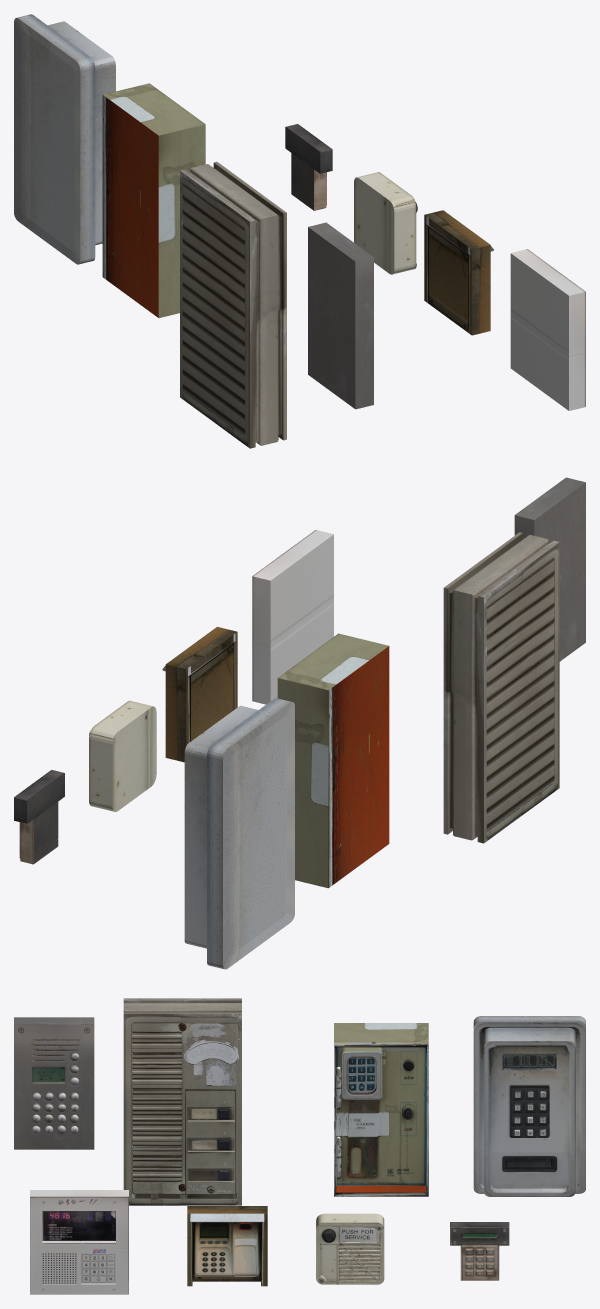
File: bellsfbx.fbx
3 renders of one model, top to bottom at view 1: azimuth 30°, elevation 25°; view 2: azimuth 150°, elevation 25°; view 3: azimuth 270°, elevation 25°, orthographic. The views are drawn at different scales.
Parts seen in each view (by area): view 1: Cube.007, Cube.004, Cube.003, Cube.006, Cube.005, Cube, Cube.002, Cube.001; view 2: Cube.007, Cube.004, Cube.003, Cube.005, Cube, Cube.006, Cube.002, Cube.001; view 3: Cube.007, Cube.004, Cube.003, Cube.006, Cube.005, Cube, Cube.002, Cube.001.
Boxes of the visible parts, left/top/right/bottom form: Cube.007: left=180, top=161, right=286, bottom=448; Cube.004: left=14, top=14, right=115, bottom=264; Cube.003: left=102, top=83, right=205, bottom=317; Cube.006: left=308, top=222, right=373, bottom=409; Cube.005: left=510, top=249, right=585, bottom=410; Cube: left=424, top=210, right=493, bottom=335; Cube.002: left=354, top=172, right=417, bottom=274; Cube.001: left=285, top=124, right=332, bottom=210; Cube.007: left=443, top=532, right=559, bottom=843; Cube.004: left=184, top=698, right=294, bottom=969; Cube.003: left=277, top=633, right=389, bottom=888; Cube.005: left=252, top=530, right=333, bottom=704; Cube: left=162, top=626, right=237, bottom=762; Cube.006: left=514, top=477, right=585, bottom=661; Cube.002: left=89, top=700, right=156, bottom=811; Cube.001: left=14, top=770, right=64, bottom=864; Cube.007: left=123, top=998, right=241, bottom=1205; Cube.004: left=473, top=1016, right=585, bottom=1196; Cube.003: left=334, top=1023, right=428, bottom=1196; Cube.006: left=14, top=1017, right=94, bottom=1149; Cube.005: left=30, top=1190, right=128, bottom=1294; Cube: left=187, top=1206, right=267, bottom=1286; Cube.002: left=316, top=1213, right=384, bottom=1284; Cube.001: left=450, top=1222, right=509, bottom=1280.
Size of the model in its own units: 696 by 527 by 1423.
